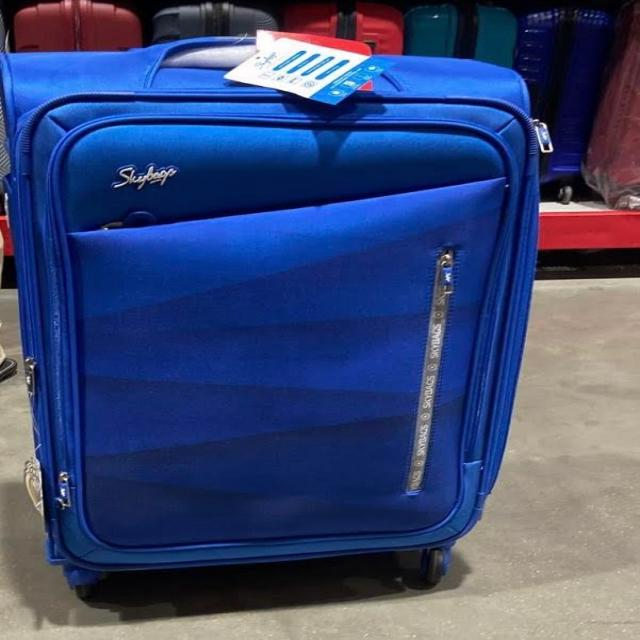Others: (0, 36, 562, 584)
